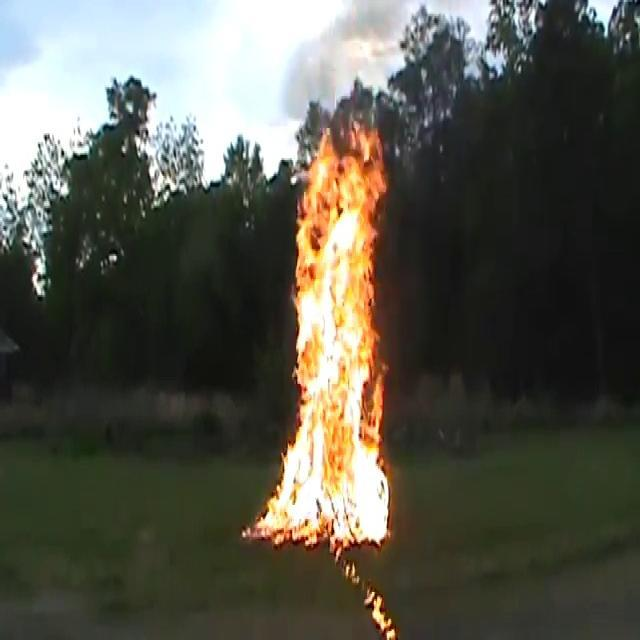Fire: (264, 125, 399, 550)
